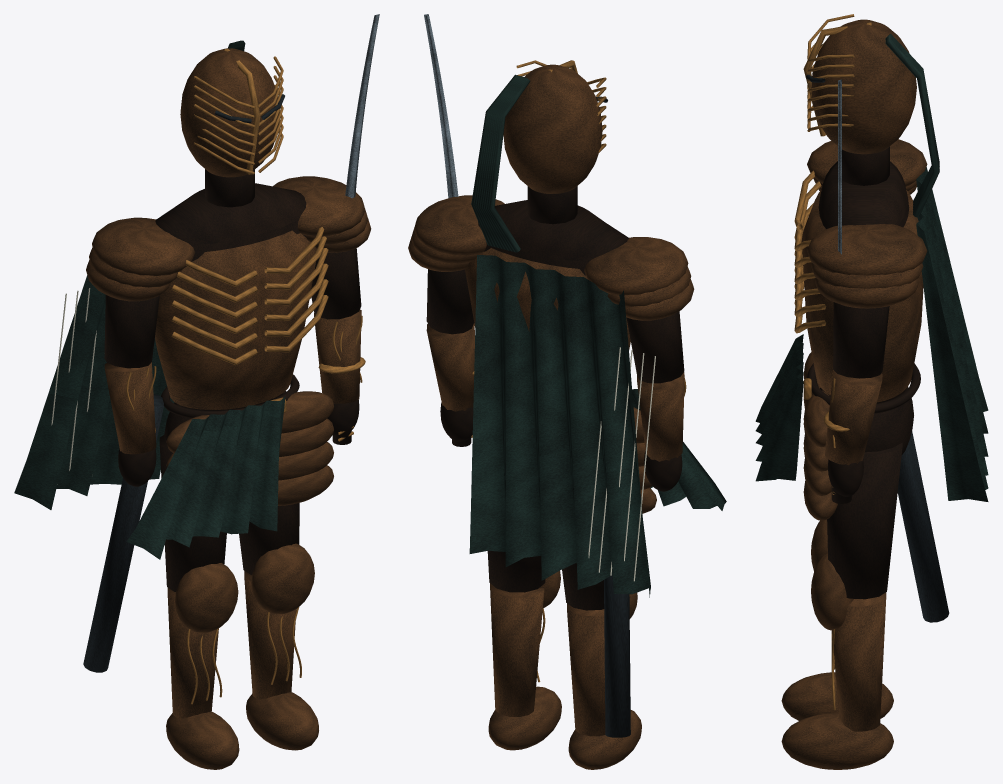
File: executioner.glb
The picture shows the model from 3 angles, left to right: view 1: azimuth 30°, elevation 25°; view 2: azimuth 150°, elevation 25°; view 3: azimuth 270°, elevation 25°; orthographic projection. The views are drawn at different scales.
Parts seen in each view (by area): view 1: Fluted crucible cuirass, Diagonal green sash, Weathered shoulder cape, kneeL_Weathered_crucible_bronze, kneeR_Weathered_crucible_bronze, Full enclosed helmet, body_Oiled_leather, body_Worn_gold_edges, armL_Weathered_crucible_bronze, executioner_Weathered_crucible_bronze, Katana scabbard, armR_Weathered_crucible_bronze (+12 smaller); view 2: Weathered shoulder cape, Full enclosed helmet, kneeR_Weathered_crucible_bronze, kneeL_Weathered_crucible_bronze, armL_Weathered_crucible_bronze, body_Oiled_leather, armR_Weathered_crucible_bronze, head_Executor_green_cloth, Katana scabbard, Forearm L, Upper arm L, Forearm R (+12 smaller); view 3: kneeR_Weathered_crucible_bronze, Weathered shoulder cape, Full enclosed helmet, armR_Weathered_crucible_bronze, Thigh R, Fluted crucible cuirass, body_Oiled_leather, Diagonal green sash, Katana scabbard, Forearm R, Upper arm R, executioner_Weathered_crucible_bronze (+9 smaller).
Part boxes in pixels (bbox=[...]): Fluted crucible cuirass: bbox=[155, 230, 316, 409]; Diagonal green sash: bbox=[126, 396, 285, 559]; Weathered shoulder cape: bbox=[14, 275, 174, 509]; kneeL_Weathered_crucible_bronze: bbox=[166, 563, 239, 769]; kneeR_Weathered_crucible_bronze: bbox=[244, 543, 318, 750]; Full enclosed helmet: bbox=[180, 48, 279, 177]; body_Oiled_leather: bbox=[155, 183, 306, 418]; body_Worn_gold_edges: bbox=[171, 227, 328, 412]; armL_Weathered_crucible_bronze: bbox=[86, 217, 194, 301]; executioner_Weathered_crucible_bronze: bbox=[166, 391, 333, 505]; Katana scabbard: bbox=[83, 394, 163, 672]; armR_Weathered_crucible_bronze: bbox=[273, 176, 371, 252]; Weathered shoulder cape: bbox=[469, 255, 650, 597]; Full enclosed helmet: bbox=[503, 64, 602, 193]; kneeR_Weathered_crucible_bronze: bbox=[488, 571, 561, 750]; kneeL_Weathered_crucible_bronze: bbox=[567, 592, 641, 769]; armL_Weathered_crucible_bronze: bbox=[584, 237, 694, 320]; body_Oiled_leather: bbox=[478, 200, 628, 275]; armR_Weathered_crucible_bronze: bbox=[408, 195, 504, 271]; head_Executor_green_cloth: bbox=[471, 74, 530, 252]; Katana scabbard: bbox=[604, 575, 630, 737]; Forearm L: bbox=[637, 372, 684, 461]; Upper arm L: bbox=[626, 311, 684, 383]; Forearm R: bbox=[426, 323, 474, 411]; kneeR_Weathered_crucible_bronze: bbox=[781, 553, 893, 769]; Weathered shoulder cape: bbox=[916, 167, 988, 501]; Full enclosed helmet: bbox=[811, 19, 916, 154]; armR_Weathered_crucible_bronze: bbox=[807, 224, 927, 308]; Thigh R: bbox=[827, 442, 902, 599]; Fluted crucible cuirass: bbox=[801, 190, 923, 402]; body_Oiled_leather: bbox=[807, 161, 920, 413]; Diagonal green sash: bbox=[755, 334, 803, 481]; Katana scabbard: bbox=[897, 431, 949, 622]; Forearm R: bbox=[825, 370, 882, 465]; Upper arm R: bbox=[833, 302, 889, 378]; executioner_Weathered_crucible_bronze: bbox=[803, 352, 837, 520].
Bounding box in the file's own units: 0.888 × 2.02 × 0.58.
7 materials, 6 textured.
